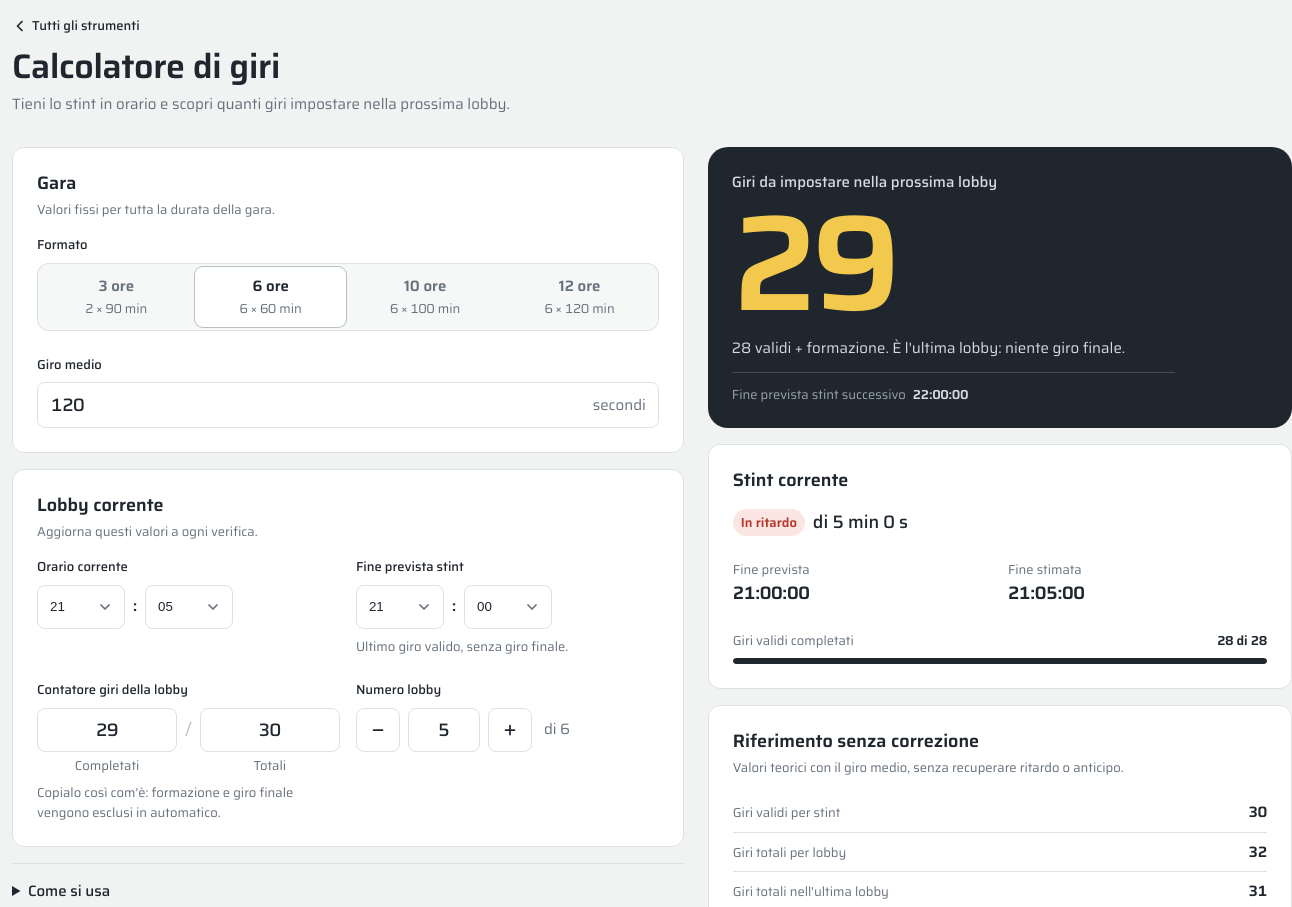
<LapCalculator /> › spiega come correggere un giro medio non valido
Clear the number field labelled "Giro medio" at point(315, 405), box [38, 383, 593, 427]
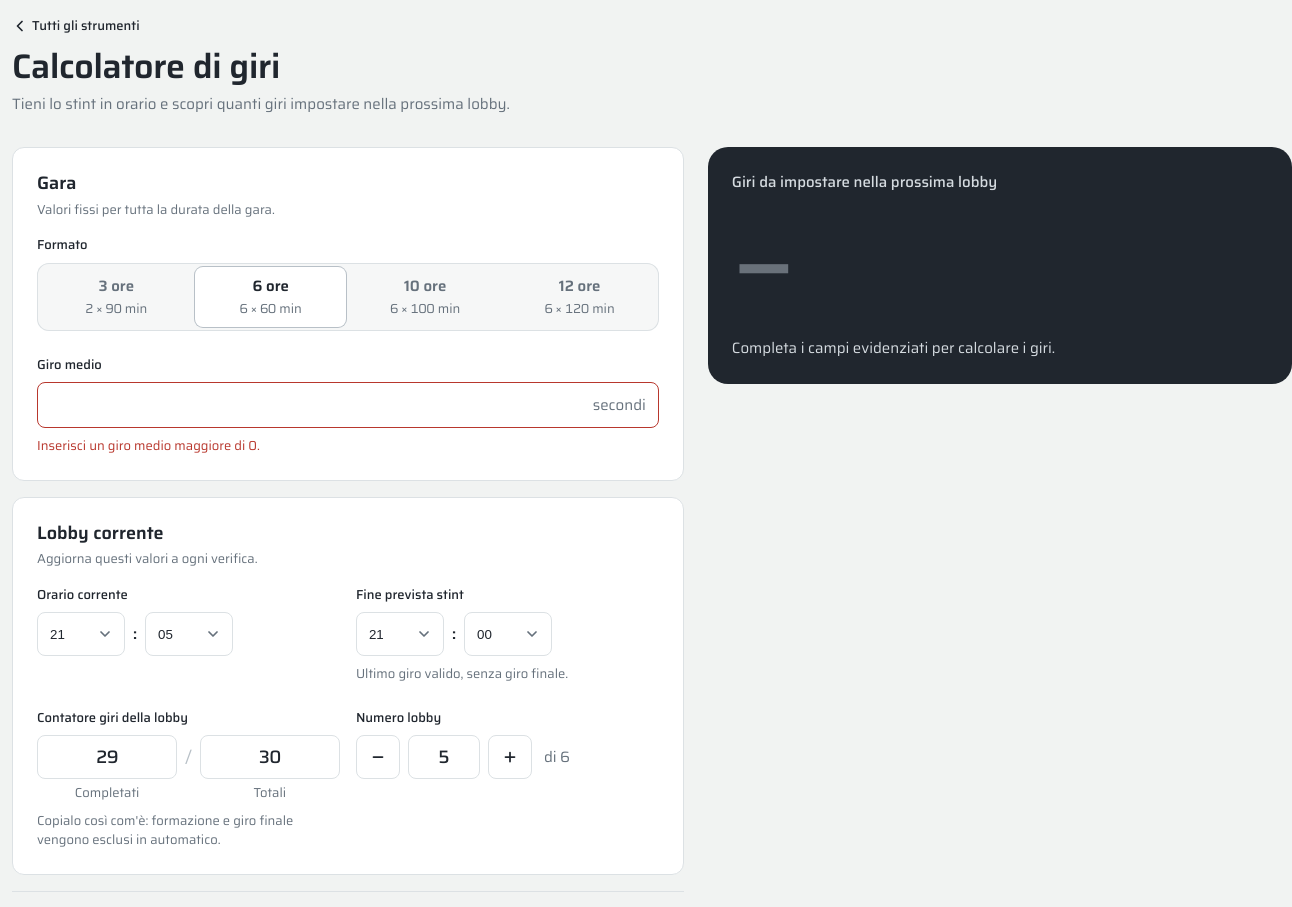
Result: the element named "Giri da impostare nella prossima lobby" reads "–" at [732, 156, 793, 370]
